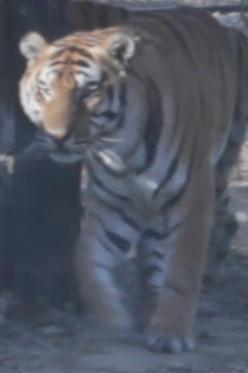tiger: (19, 7, 246, 351)
